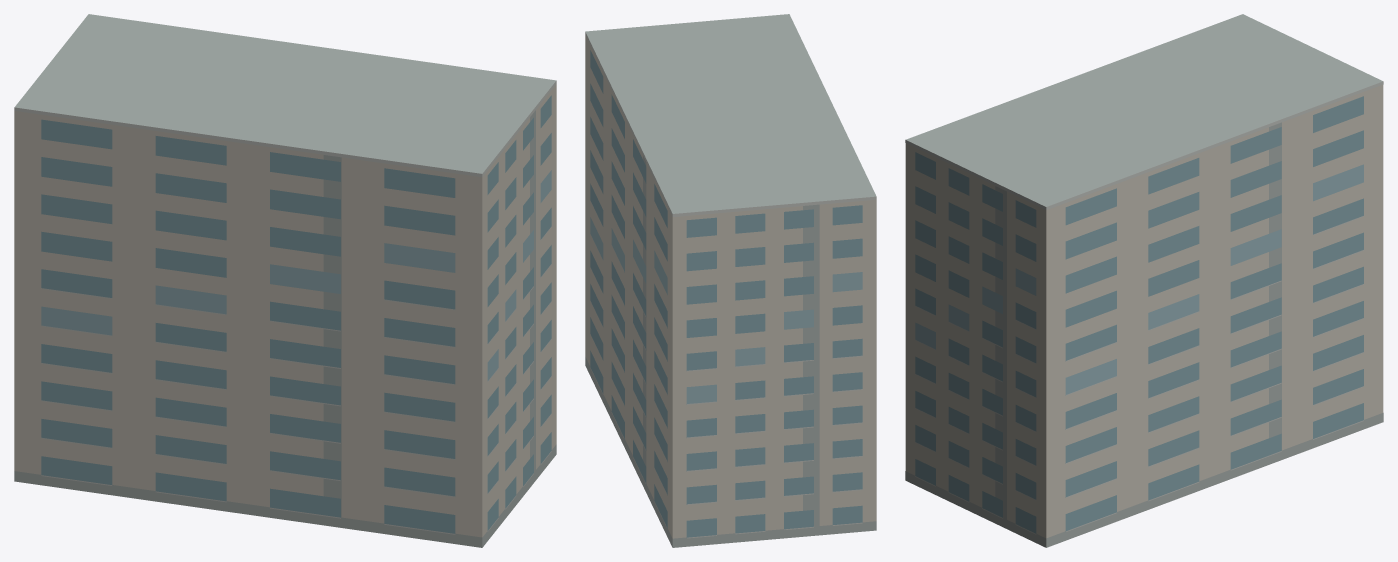
File: residential-f6dca8c8-d508-4002-ab4c-4b81ad0ba070.glb
The picture shows the model from 3 angles, left to right: view 1: azimuth 30°, elevation 25°; view 2: azimuth 150°, elevation 25°; view 3: azimuth 270°, elevation 25°; orthographic projection. The views are drawn at different scales.
Visible parts, largest first — view 1: residential-f6dca8c8-d508-4002-ab4c-4b81ad0ba070.tmp; view 2: residential-f6dca8c8-d508-4002-ab4c-4b81ad0ba070.tmp; view 3: residential-f6dca8c8-d508-4002-ab4c-4b81ad0ba070.tmp.
Part boxes in pixels (x1,y1,x2,y2): residential-f6dca8c8-d508-4002-ab4c-4b81ad0ba070.tmp: [14, 14, 556, 547]; residential-f6dca8c8-d508-4002-ab4c-4b81ad0ba070.tmp: [585, 14, 876, 547]; residential-f6dca8c8-d508-4002-ab4c-4b81ad0ba070.tmp: [905, 14, 1383, 547].
Size of the model in its own units: 31.6 by 26 by 33.05.
